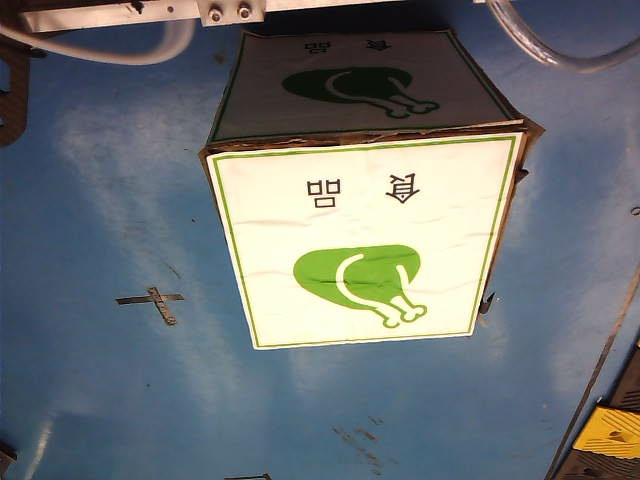Cube_food: (258, 145, 467, 338)
